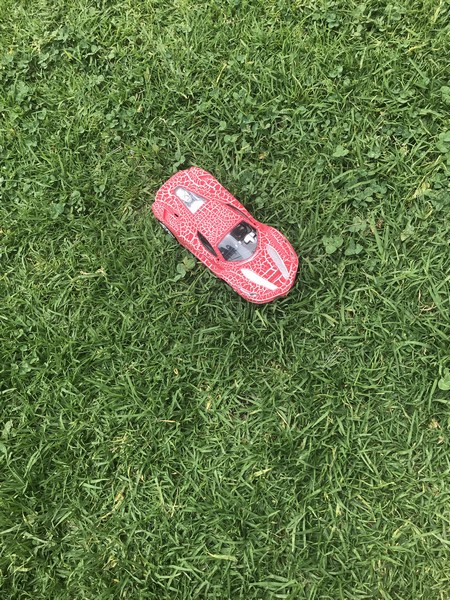RC: (149, 166, 300, 307)
